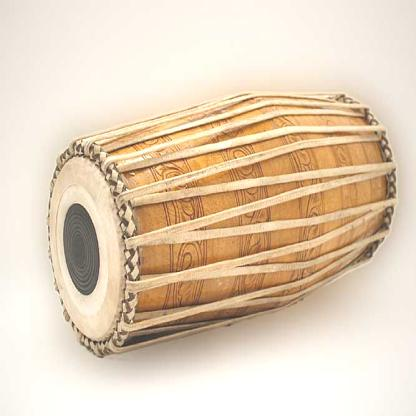Mridangam: (29, 76, 405, 366)
